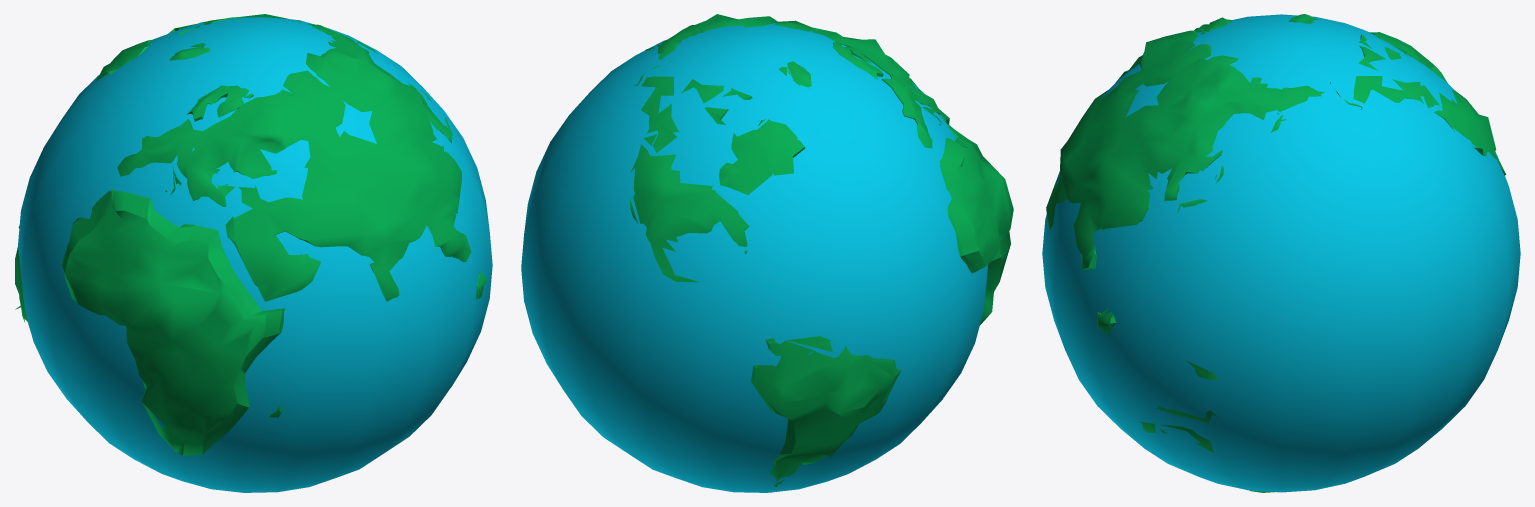
The model's file is Globe2.0.fbx.
3 views of the same model, side by side, from view 1: azimuth 30°, elevation 25°; view 2: azimuth 150°, elevation 25°; view 3: azimuth 270°, elevation 25° (orthographic).
Visible parts, largest first — view 1: pSphere9, polySurface82, polySurface63, polySurface60; view 2: pSphere9, polySurface60, polySurface62, polySurface63, polySurface82; view 3: pSphere9, polySurface82, polySurface60, polySurface77.
Part boxes in pixels (<box>): pSphere9: <box>18,17,492,492</box>; polySurface82: <box>117,24,471,301</box>; polySurface63: <box>62,189,284,455</box>; polySurface60: <box>96,14,302,80</box>; pSphere9: <box>521,23,988,492</box>; polySurface60: <box>629,61,804,282</box>; polySurface62: <box>751,336,900,486</box>; polySurface63: <box>939,122,1013,325</box>; polySurface82: <box>645,14,949,148</box>; pSphere9: <box>1042,14,1520,492</box>; polySurface82: <box>1046,17,1324,270</box>; polySurface60: <box>1330,32,1506,175</box>; polySurface77: <box>1140,407,1217,452</box>.
Bounding box in the file's own units: 17.86 × 18.03 × 17.79.
